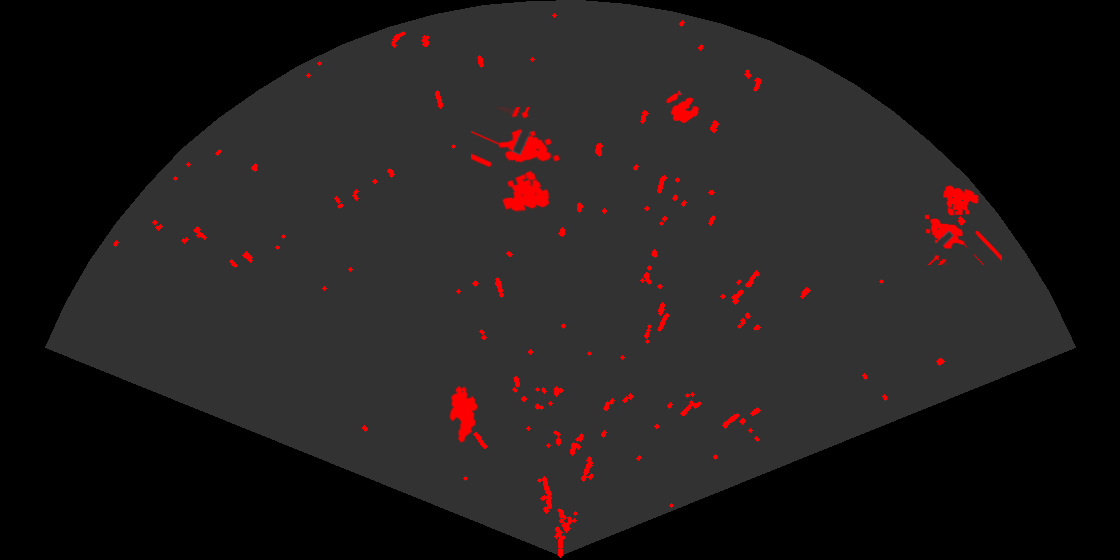AUV: (448, 384, 480, 445)
ball: (665, 89, 700, 125)
cage: (471, 107, 562, 214), (923, 184, 1002, 265)
